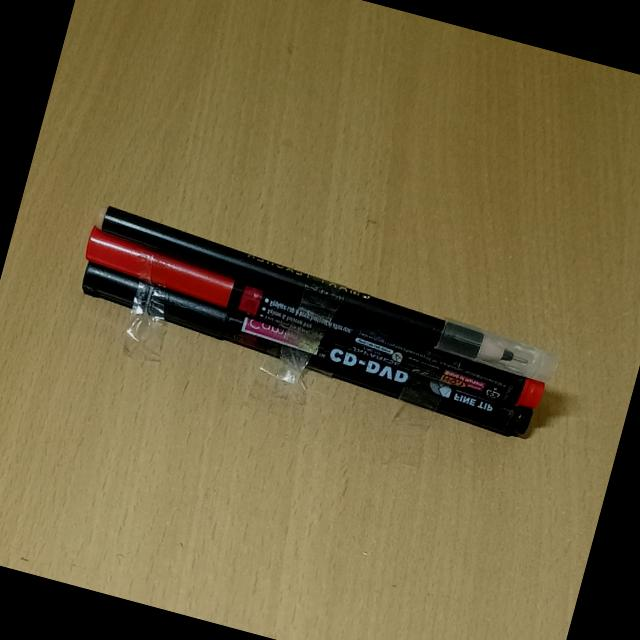marker: (62, 250, 585, 447)
pen: (83, 196, 597, 374)
